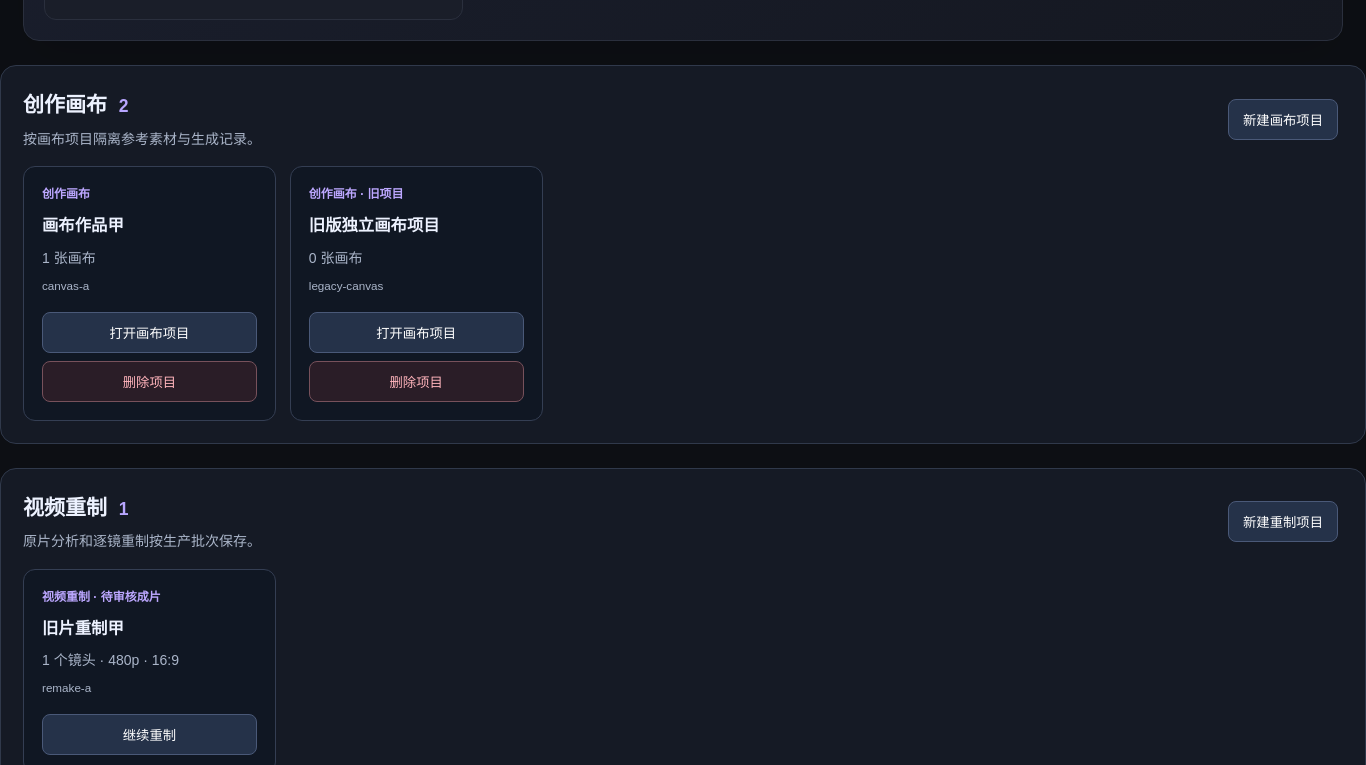
Test case: 统一项目目录 › 删除画布项目须输入完整名称，删除后刷新目录且不影响其他模块
The image size is (1366, 765).
(page scrolled)
Check: the heading "画布作品甲" is shown, box x1=42 y1=216 x2=124 y2=234
Click the button with aria-label "删除画布项目 画布作品甲".
click(149, 381)  # box x1=42 y1=361 x2=257 y2=402
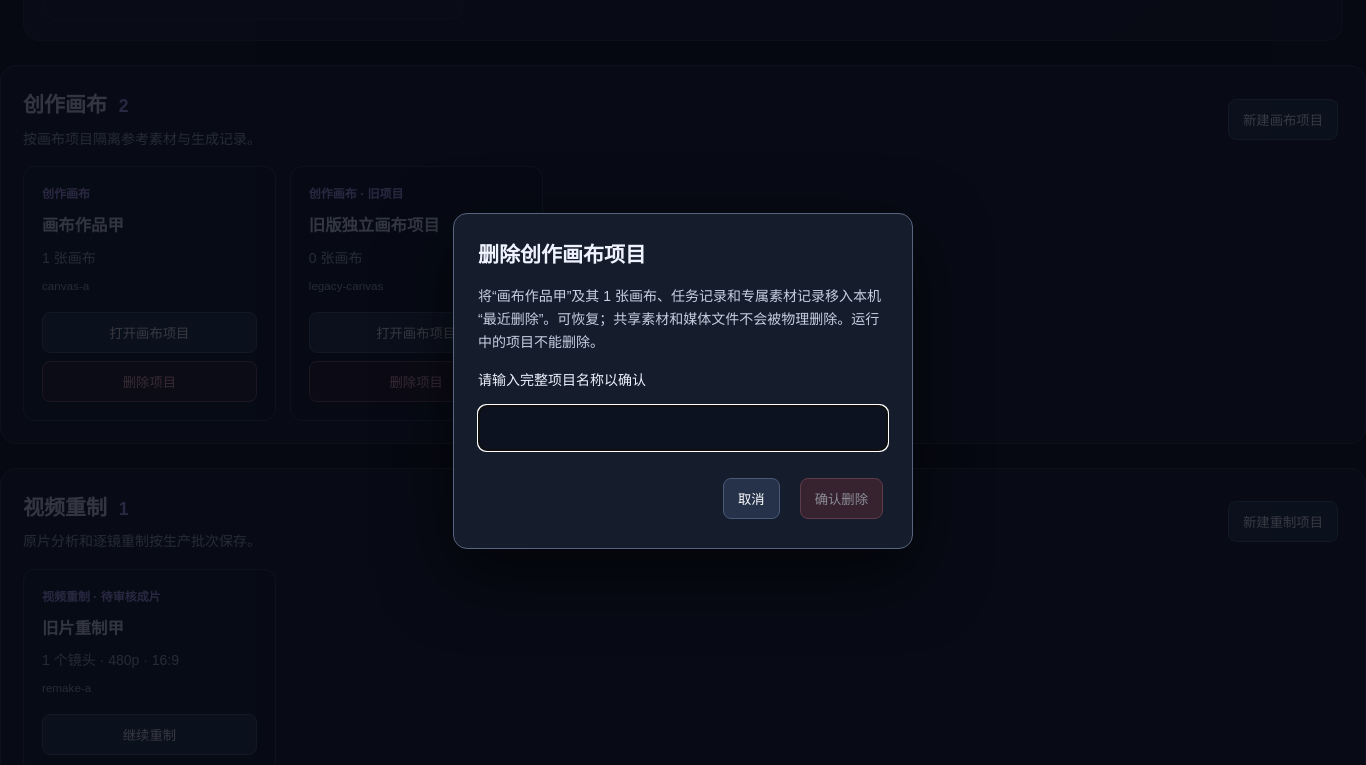
Check: the dialog "删除创作画布项目" is shown, box x1=453 y1=213 x2=913 y2=549
Check: the button "确认删除" is disabled, box x1=800 y1=478 x2=883 y2=519
Type "画布作品甲" into the field labelled "请输入完整项目名称以确认".
click(683, 428); type("画布作品甲")  # box x1=478 y1=405 x2=888 y2=451
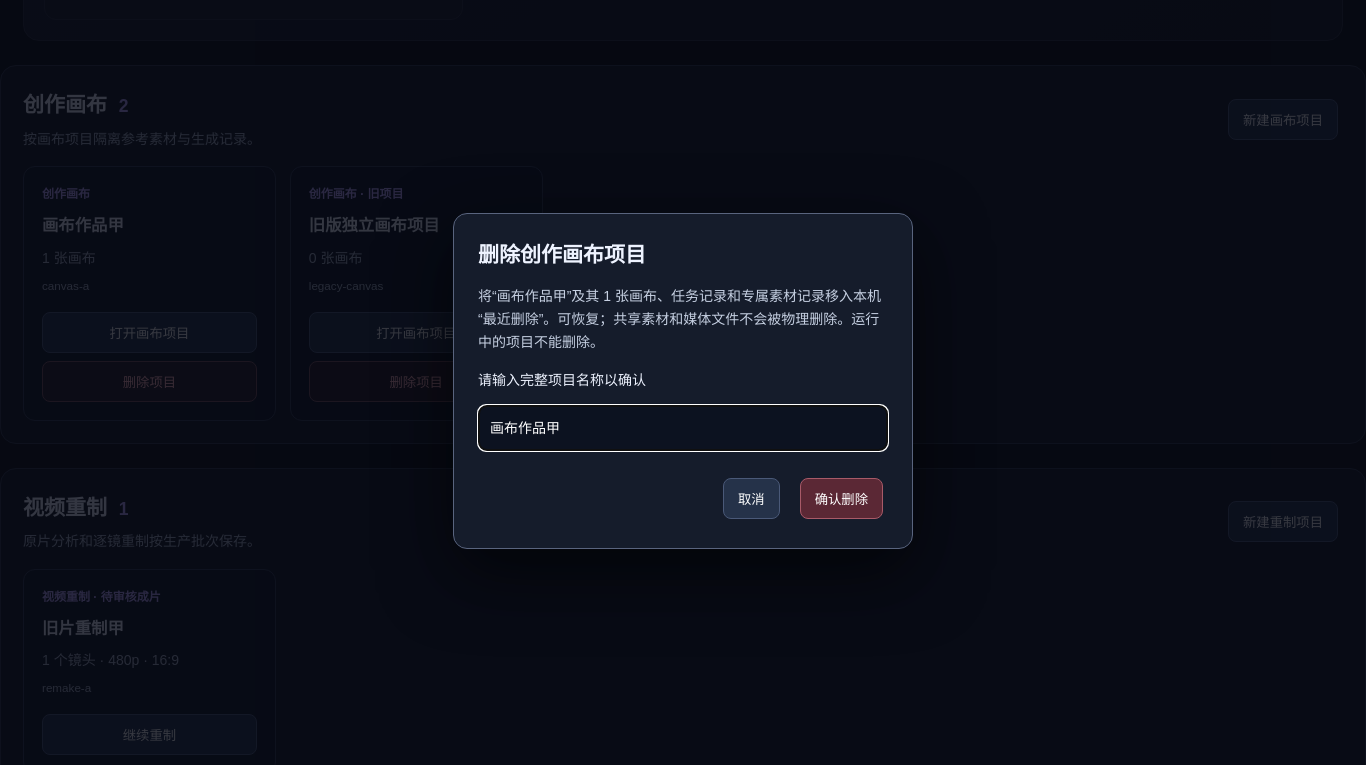
Click the button "确认删除".
click(841, 499)  # box x1=800 y1=478 x2=883 y2=519
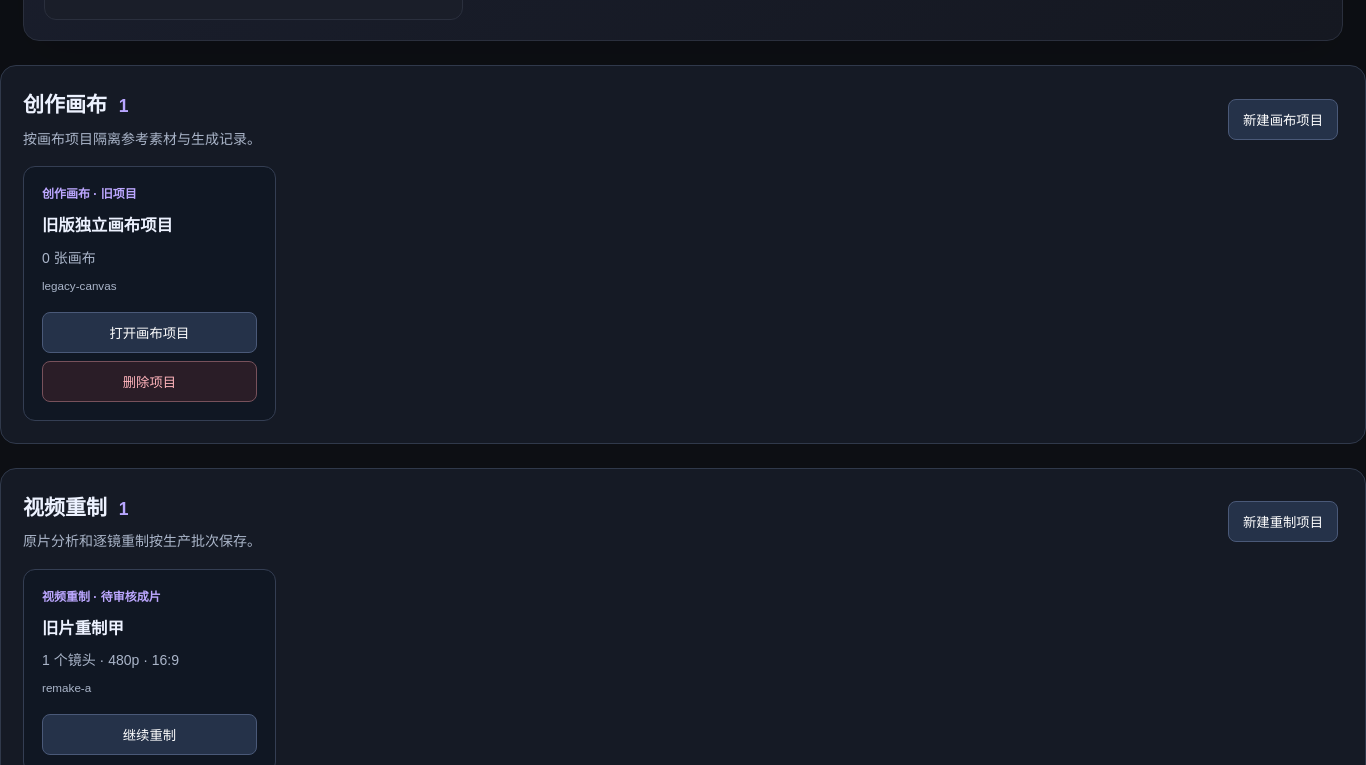
Check: the heading "旧片重制甲" is shown, box x1=42 y1=619 x2=124 y2=637
Check: the heading "画布作品甲" is gone
